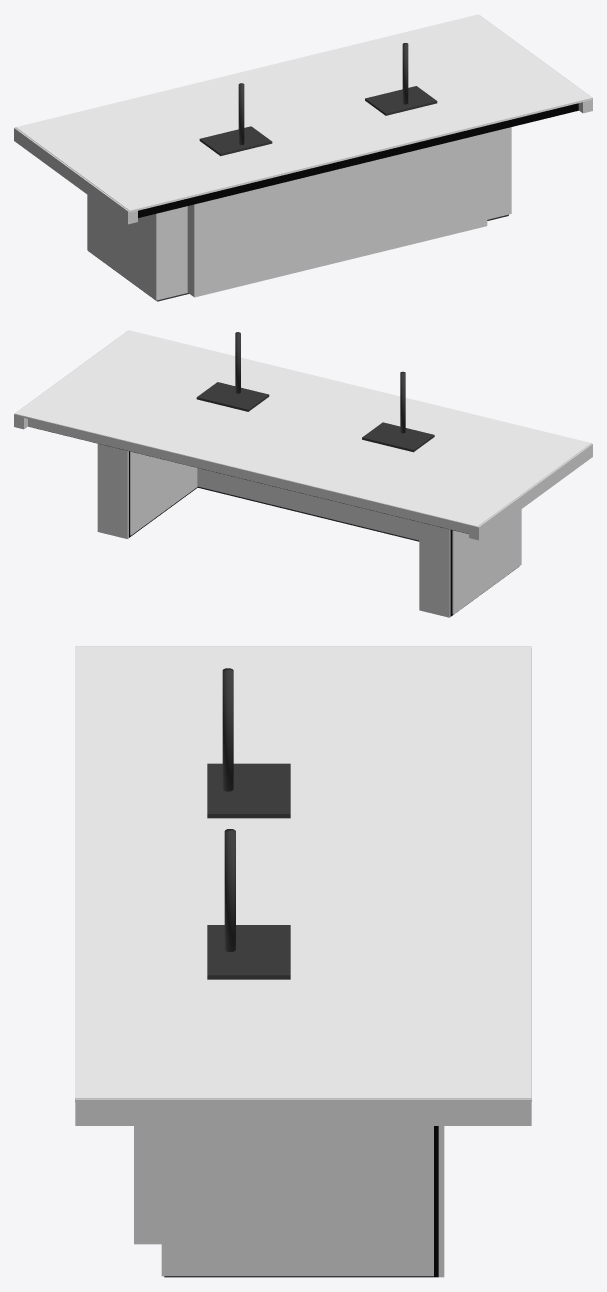
The model's file is Obstacles.gltf.
3 views of the same model, one above another, from view 1: azimuth 30°, elevation 25°; view 2: azimuth 150°, elevation 25°; view 3: azimuth 270°, elevation 25° (orthographic). The views are drawn at different scales.
Parts seen in each view (by area): view 1: Desk, OBSTACLE_killClosed, OBSTACLE_bumpRightFoot, underplane, OBSTACLE_bumpLeftFoot, OBSTACLE_bumpRightDesk, Computer 2, Computer 1, Cylinder.002, Left_Cyl_Pied; view 2: Desk, OBSTACLE_bumpRightFoot, OBSTACLE_killClosed, OBSTACLE_killdesk, OBSTACLE_bumpLeftFoot, OBSTACLE_killRightFoot, OBSTACLE_killLeftFoot, OBSTACLE_bumpRightDesk, Computer 2, Computer 1, OBSTACLE_killPlatedesk, Closed; view 3: Desk, OBSTACLE_bumpLeftFoot, OBSTACLE_bumpLeftDesk, Computer 2, Computer 1, OBSTACLE_killClosed, Cylinder.002, Left_Cyl_Pied, Lpied, OBSTACLE_killLeftFoot.
Boxes of the visible parts, left/top/right/bottom form: Desk: left=16, top=14, right=592, bottom=212; OBSTACLE_killClosed: left=187, top=133, right=487, bottom=297; OBSTACLE_bumpRightFoot: left=88, top=195, right=187, bottom=300; underplane: left=138, top=103, right=578, bottom=217; OBSTACLE_bumpLeftFoot: left=487, top=127, right=511, bottom=219; OBSTACLE_bumpRightDesk: left=14, top=127, right=137, bottom=224; Computer 2: left=199, top=126, right=272, bottom=156; Computer 1: left=365, top=86, right=437, bottom=115; Cylinder.002: left=238, top=83, right=244, bottom=144; Left_Cyl_Pied: left=402, top=43, right=408, bottom=104; Desk: left=15, top=330, right=591, bottom=526; OBSTACLE_bumpRightFoot: left=452, top=509, right=521, bottom=614; OBSTACLE_killClosed: left=197, top=468, right=419, bottom=540; OBSTACLE_killdesk: left=28, top=419, right=468, bottom=533; OBSTACLE_bumpLeftFoot: left=130, top=451, right=197, bottom=535; OBSTACLE_killRightFoot: left=419, top=522, right=450, bottom=617; OBSTACLE_killLeftFoot: left=97, top=443, right=136, bottom=538; OBSTACLE_bumpRightDesk: left=469, top=443, right=592, bottom=540; Computer 2: left=362, top=422, right=434, bottom=452; Computer 1: left=196, top=382, right=269, bottom=411; OBSTACLE_killPlatedesk: left=15, top=414, right=477, bottom=528; Closed: left=197, top=486, right=419, bottom=541; Desk: left=75, top=647, right=530, bottom=1101; OBSTACLE_bumpLeftFoot: left=161, top=1126, right=433, bottom=1276; OBSTACLE_bumpLeftDesk: left=75, top=1099, right=531, bottom=1125; Computer 2: left=207, top=763, right=290, bottom=818; Computer 1: left=207, top=925, right=290, bottom=979; OBSTACLE_killClosed: left=134, top=1126, right=161, bottom=1244; Cylinder.002: left=222, top=668, right=233, bottom=791; Left_Cyl_Pied: left=224, top=829, right=235, bottom=951; Lpied: left=164, top=1126, right=438, bottom=1277; OBSTACLE_killLeftFoot: left=438, top=1126, right=444, bottom=1277.
Bounding box in the file's own units: 7.08 × 2.63 × 3.01.
Materials: 1 (1 with a texture image).
